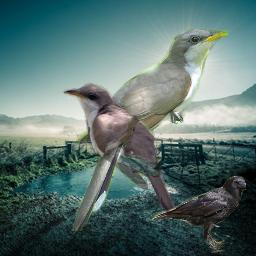Crow: (149, 176, 246, 253)
Cuckoo: (72, 29, 228, 231), (61, 81, 177, 221)
